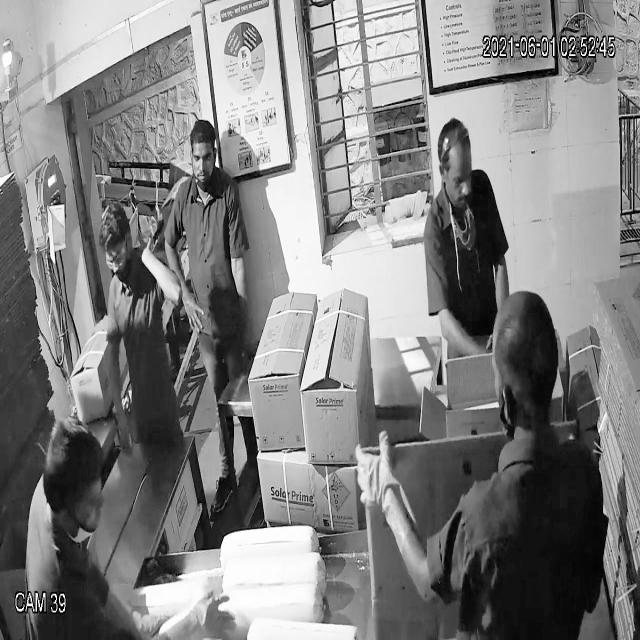glasses: (98, 242, 134, 276)
no-glass: (434, 159, 476, 193), (186, 137, 219, 171)
